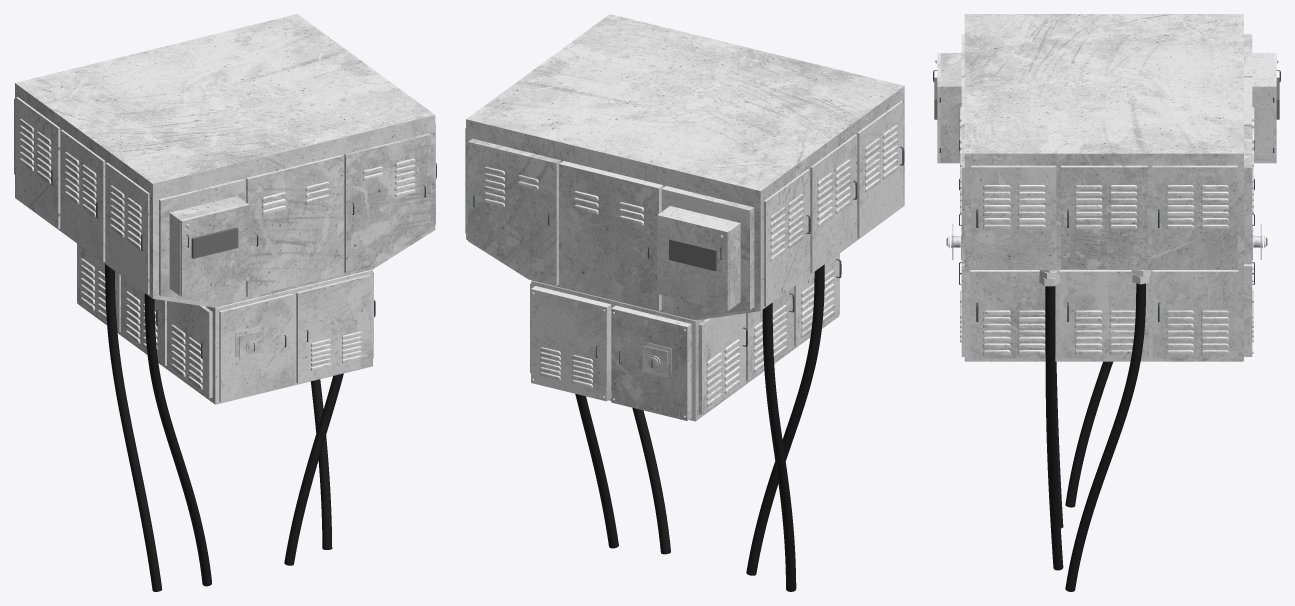
Rendered from Machine.fbx.
The picture shows the model from 3 angles, left to right: view 1: azimuth 30°, elevation 25°; view 2: azimuth 150°, elevation 25°; view 3: azimuth 270°, elevation 25°; orthographic projection. The views are drawn at different scales.
Visible parts, largest first — view 1: Cube.005, Cube.057, Cube.019, Cube.012, Cube.006; view 2: Cube.005, Cube.057, Cube.019, Cube.012, Cube.006; view 3: Cube.005, Cube.057, Cube.015.
Part boxes in pixels (left/top/right/bottom): Cube.005: left=14, top=14, right=435, bottom=404; Cube.057: left=105, top=264, right=343, bottom=591; Cube.019: left=105, top=162, right=149, bottom=294; Cube.012: left=16, top=97, right=60, bottom=229; Cube.006: left=191, top=227, right=238, bottom=258; Cube.005: left=465, top=14, right=904, bottom=421; Cube.057: left=575, top=260, right=830, bottom=591; Cube.019: left=857, top=100, right=903, bottom=238; Cube.012: left=764, top=169, right=809, bottom=306; Cube.006: left=669, top=238, right=717, bottom=271; Cube.005: left=935, top=14, right=1278, bottom=361; Cube.057: left=1039, top=270, right=1150, bottom=591; Cube.015: left=933, top=70, right=1280, bottom=321.
Size of the model in its own units: 405 by 600 by 407.
7 materials, 2 textured.
